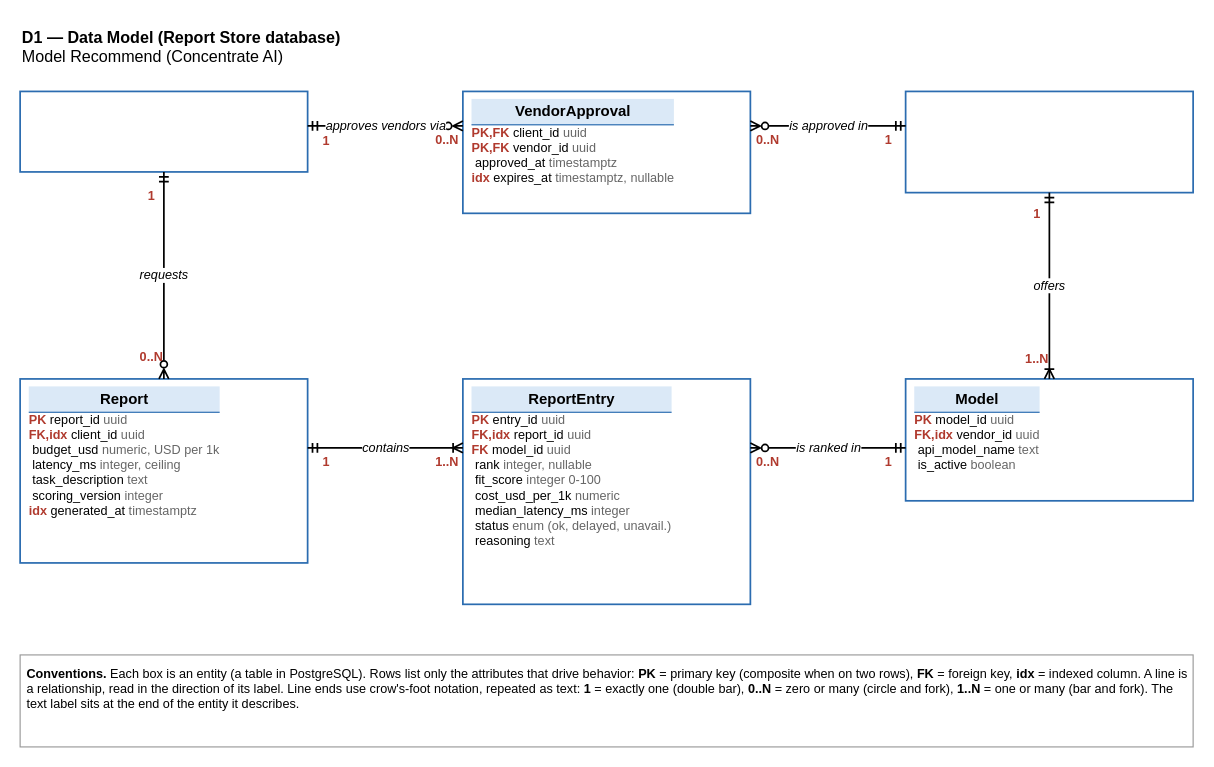
The diagram is 1214 pixels wide and 767 high, and some of its shapes have lost their labels. The box of each missing label's shape, as (x1, y1, x2, y2) in pixels:
Client PK client_id uuid name text: (19, 90, 308, 172)
Vendor PK vendor_id uuid name text retention_policy_url text: (904, 90, 1193, 193)
